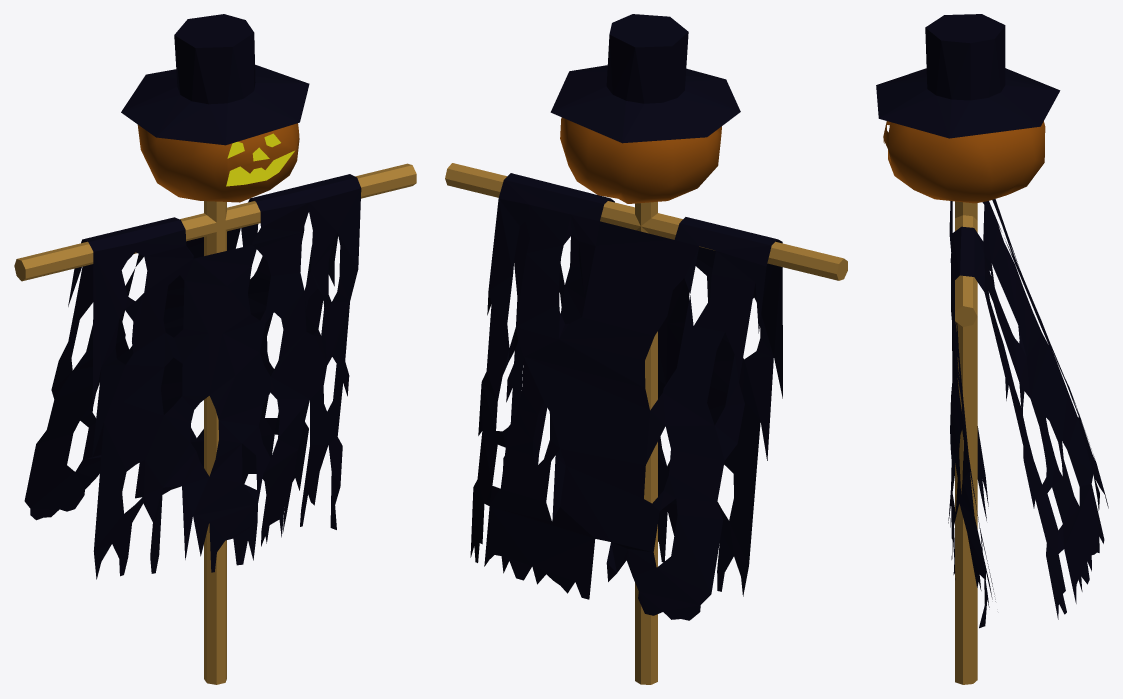
The model's file is Puglik1@anim.fbx.
The picture shows the model from 3 angles, left to right: view 1: azimuth 30°, elevation 25°; view 2: azimuth 150°, elevation 25°; view 3: azimuth 270°, elevation 25°; orthographic projection.
Visible parts, largest first — view 1: Cylinder.003, Cylinder.002, Grid, Cylinder, Cylinder.001, Plane; view 2: Cylinder.003, Cylinder.002, Grid, Cylinder.001, Cylinder; view 3: Cylinder.003, Cylinder.002, Grid, Cylinder, Cylinder.001.
Part boxes in pixels (box(x1,y1,x2,y2)): Cylinder.003: box(24, 174, 361, 579); Cylinder.002: box(121, 14, 309, 145); Grid: box(137, 123, 299, 202); Cylinder: box(204, 201, 226, 684); Cylinder.001: box(14, 163, 416, 281); Plane: box(226, 133, 294, 186); Cylinder.003: box(470, 173, 782, 620); Cylinder.002: box(550, 14, 740, 143); Grid: box(560, 117, 721, 203); Cylinder.001: box(445, 163, 847, 280); Cylinder: box(635, 202, 657, 684); Cylinder.003: box(948, 199, 1108, 628); Cylinder.002: box(876, 14, 1060, 138); Grid: box(883, 121, 1045, 203); Cylinder: box(955, 201, 977, 684); Cylinder.001: box(955, 215, 977, 326).
Size of the model in its own units: 573 by 910 by 294.
